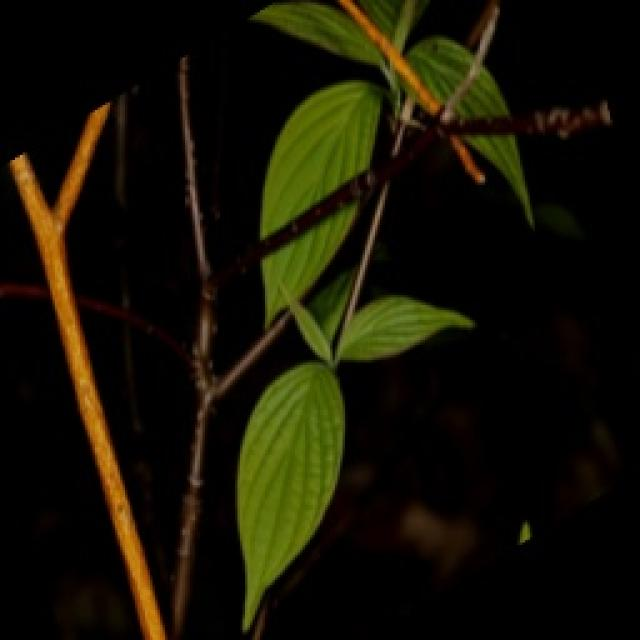Golden_canker: (2, 104, 195, 640), (320, 0, 525, 212)
